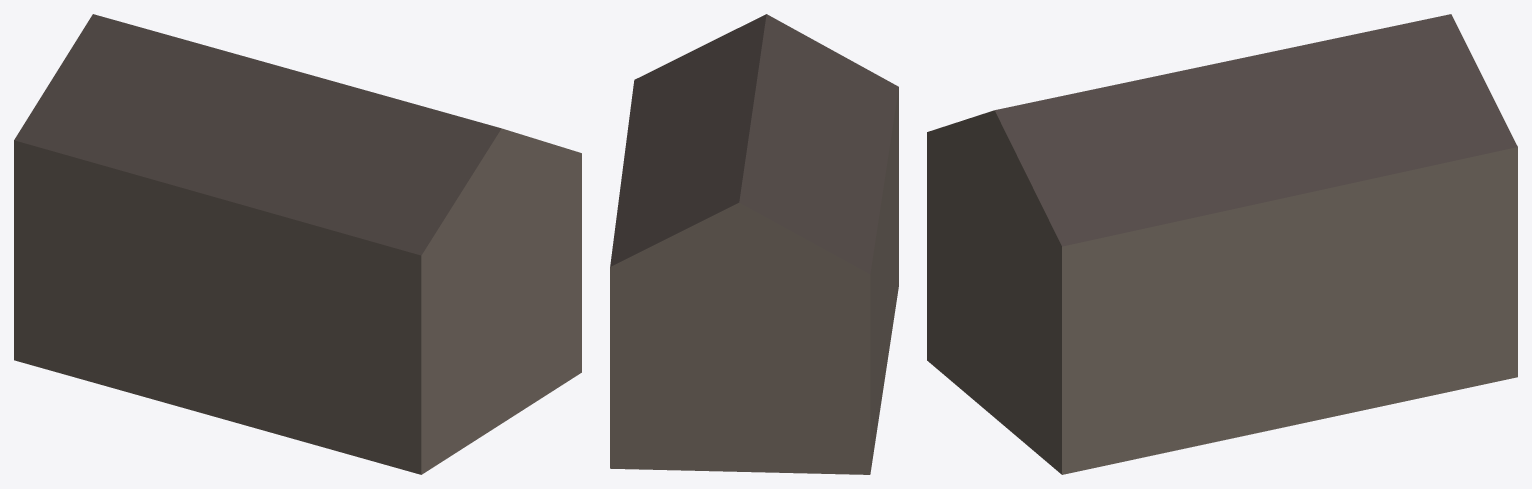
3 views of the same model, side by side, from view 1: azimuth 30°, elevation 25°; view 2: azimuth 150°, elevation 25°; view 3: azimuth 270°, elevation 25° (orthographic). The views are drawn at different scales.
Visible parts, largest first — view 1: HP-w293414316; view 2: HP-w293414316; view 3: HP-w293414316.
Part boxes in pixels (left/top/right/bottom): HP-w293414316: left=14, top=14, right=581, bottom=474; HP-w293414316: left=610, top=14, right=898, bottom=474; HP-w293414316: left=927, top=14, right=1517, bottom=474.
Bounding box in the file's own units: 11.83 × 8.08 × 14.07.
